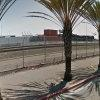Tree: (42, 2, 90, 87)
